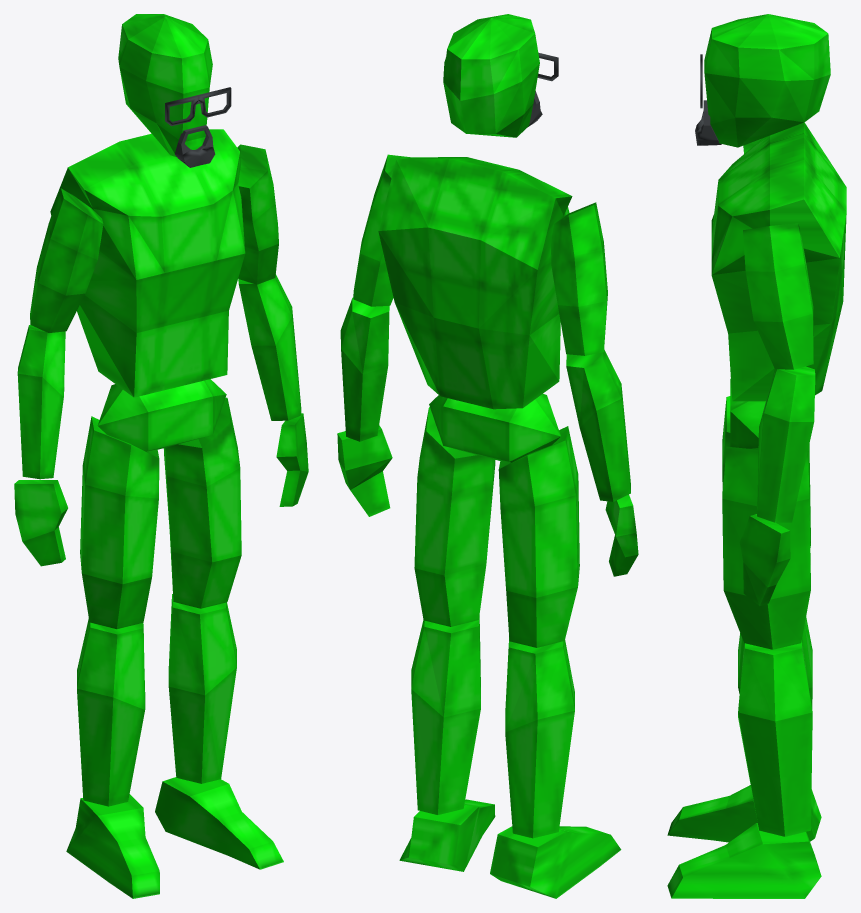
File: InfoPlayerStart.fbx
The picture shows the model from 3 angles, left to right: view 1: azimuth 30°, elevation 25°; view 2: azimuth 150°, elevation 25°; view 3: azimuth 270°, elevation 25°; orthographic projection. The views are drawn at different scales.
Parts seen in each view (by area): view 1: playerstart.mdl/playerstart_reference; view 2: playerstart.mdl/playerstart_reference; view 3: playerstart.mdl/playerstart_reference.
Boxes of the visible parts, x1,y1,x2,y2 form: playerstart.mdl/playerstart_reference: (14,14,308,898); playerstart.mdl/playerstart_reference: (337,14,638,898); playerstart.mdl/playerstart_reference: (667,14,846,898).
Bounding box in the file's own units: 263 × 713 × 136.
Materials: 2 (2 with a texture image).
